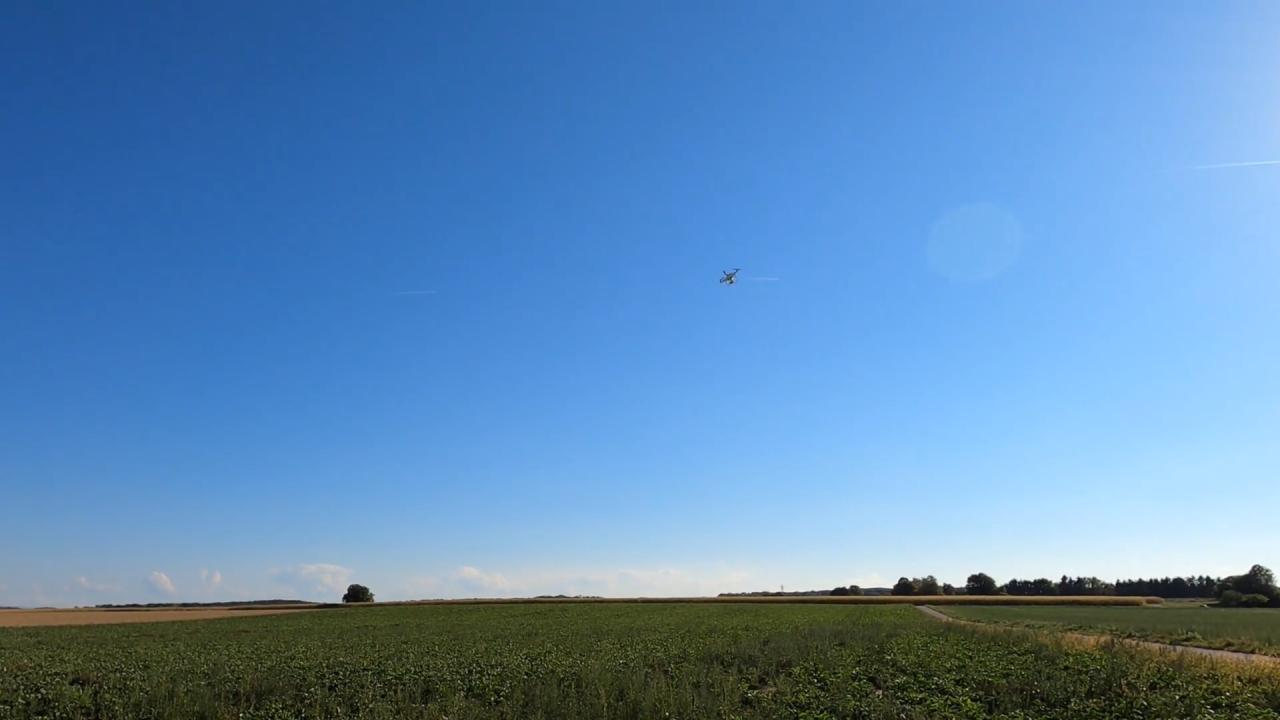Drone: (710, 262, 748, 294)
